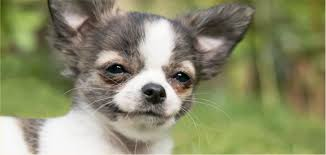chihuahua: (37, 2, 256, 154)
